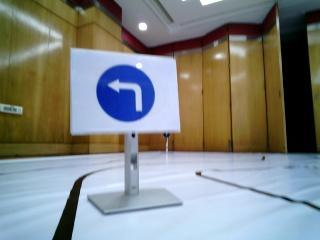left: (74, 56, 178, 130)
